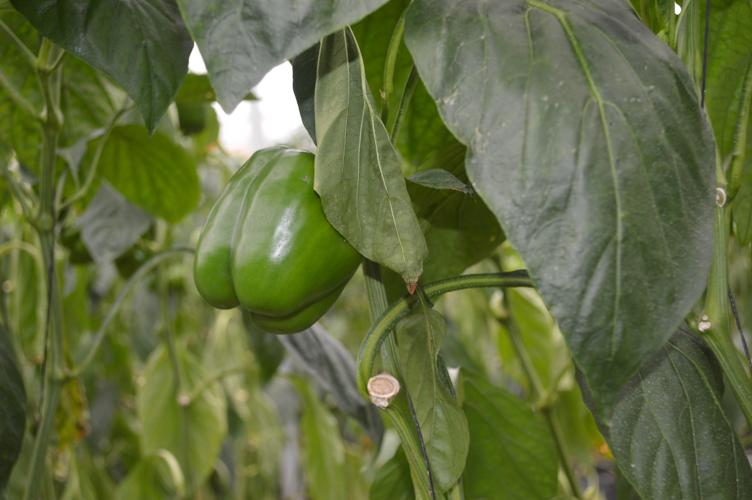BellPepper: (187, 153, 363, 335)
